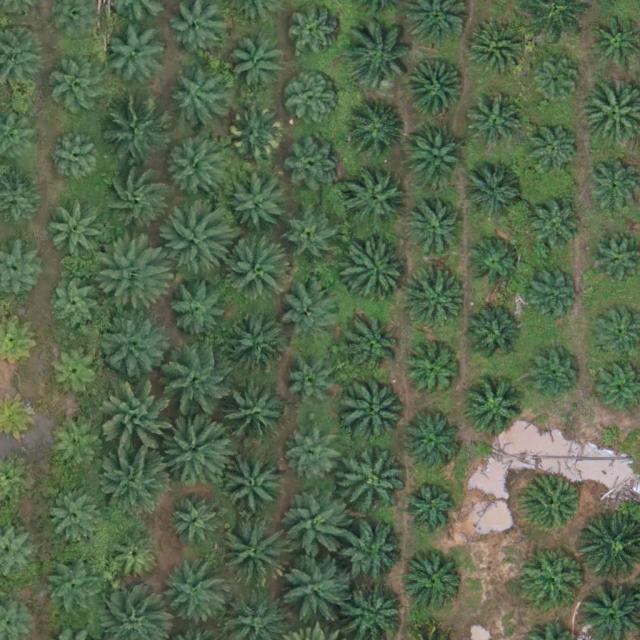Healthy: (337, 445, 408, 516), (279, 551, 349, 622), (217, 519, 288, 589), (157, 561, 227, 632), (346, 24, 417, 94), (341, 374, 411, 445), (217, 382, 287, 453), (225, 237, 295, 308), (164, 209, 234, 280), (106, 387, 176, 458), (97, 236, 167, 307), (100, 165, 170, 236), (102, 99, 172, 170), (283, 492, 353, 563), (165, 348, 235, 418), (162, 414, 232, 484), (102, 447, 172, 517), (97, 308, 167, 378), (342, 525, 405, 588), (462, 306, 525, 369), (405, 59, 468, 122), (224, 454, 287, 517), (523, 547, 585, 610), (404, 547, 466, 610), (522, 475, 584, 538), (464, 18, 526, 81), (465, 161, 527, 224), (463, 378, 525, 441), (406, 271, 468, 334), (346, 101, 408, 164), (344, 171, 406, 234), (344, 243, 406, 306), (345, 315, 407, 378), (283, 280, 345, 343), (225, 315, 287, 378), (228, 174, 290, 237), (165, 274, 227, 337), (110, 24, 172, 87), (47, 202, 109, 265), (406, 125, 468, 187), (402, 413, 464, 475), (162, 138, 224, 200), (44, 561, 99, 617), (48, 130, 103, 186), (107, 530, 162, 585), (531, 53, 586, 108), (524, 120, 579, 175), (527, 200, 582, 255), (523, 264, 578, 319), (470, 96, 525, 151), (467, 234, 522, 289), (410, 199, 465, 254), (408, 347, 463, 402), (403, 480, 458, 535), (287, 8, 342, 63), (285, 76, 340, 131), (287, 138, 342, 193), (285, 211, 340, 266), (285, 364, 340, 419), (288, 429, 343, 484), (228, 37, 283, 92), (169, 72, 224, 127), (169, 496, 224, 551), (53, 62, 108, 117), (46, 343, 101, 398), (49, 420, 104, 475), (48, 488, 103, 543), (527, 348, 581, 403), (48, 279, 102, 334)
Yellow: (229, 109, 284, 164)
